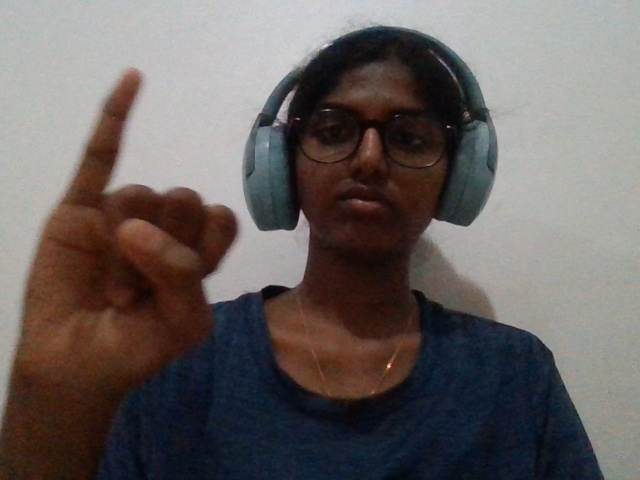I: (5, 32, 251, 442)
